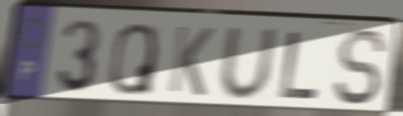3: (55, 17, 102, 96)
K: (166, 23, 217, 100)
L: (277, 29, 322, 102)
Q: (107, 20, 159, 97)
S: (331, 27, 389, 109)
U: (217, 26, 279, 102)
